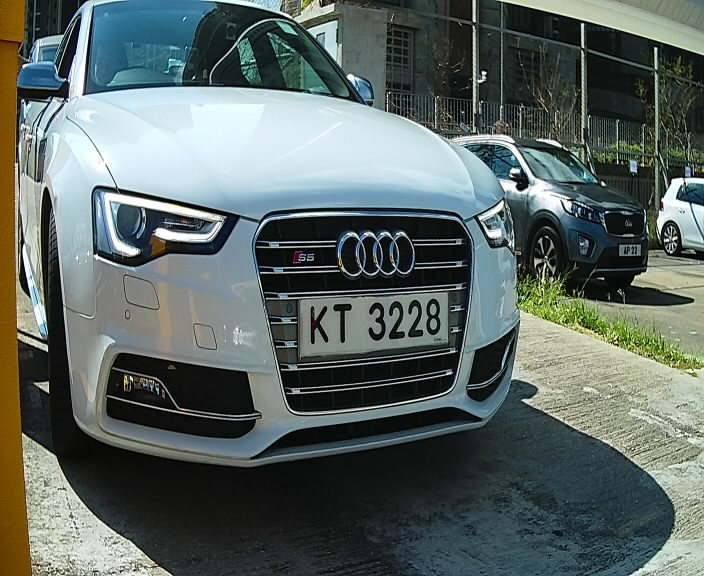Car: (14, 4, 530, 477)
License Plate: (290, 284, 459, 368)
